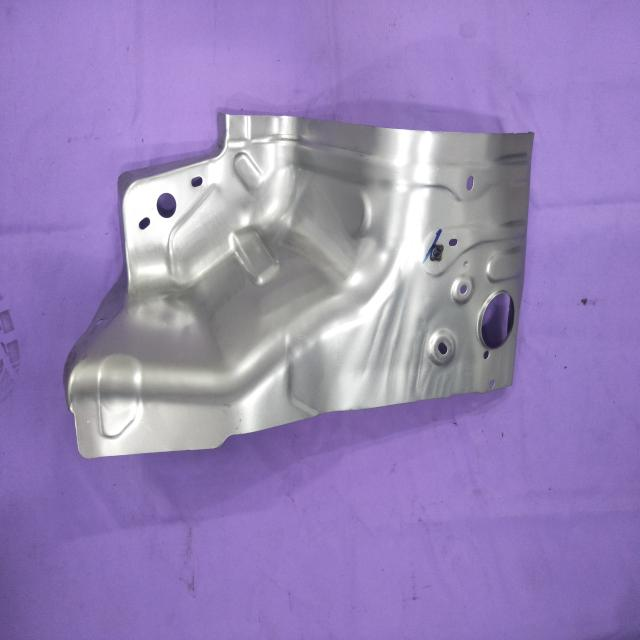Healthy: (63, 107, 535, 460)
